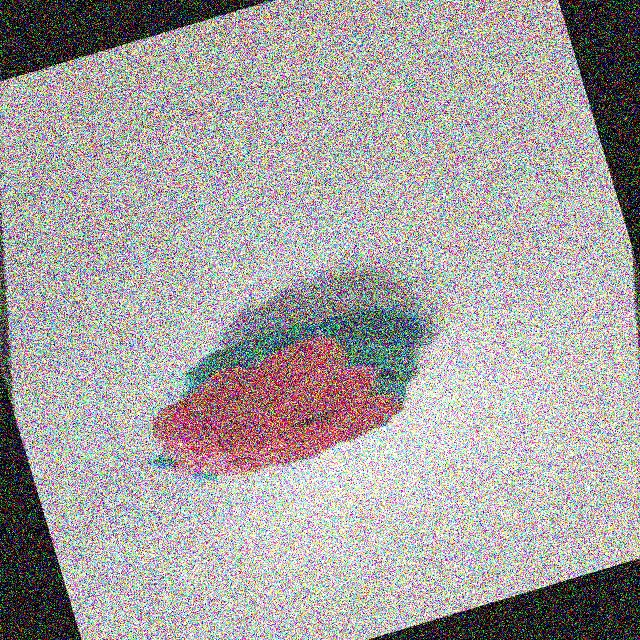House: (108, 269, 475, 522)
